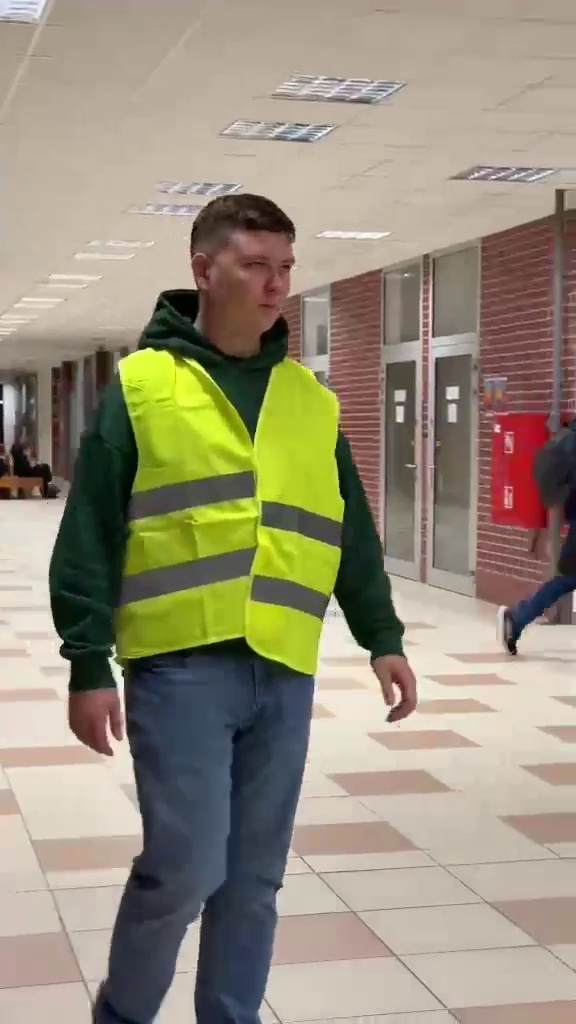vest: (44, 185, 419, 990)
